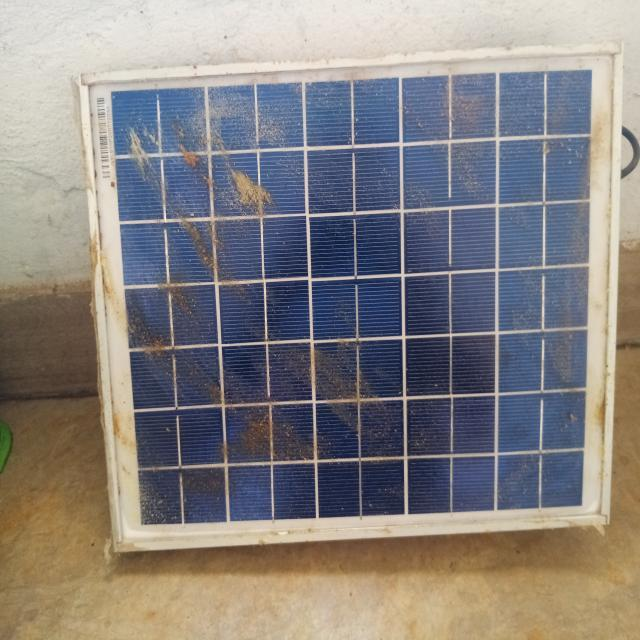faulty: (80, 49, 625, 546)
